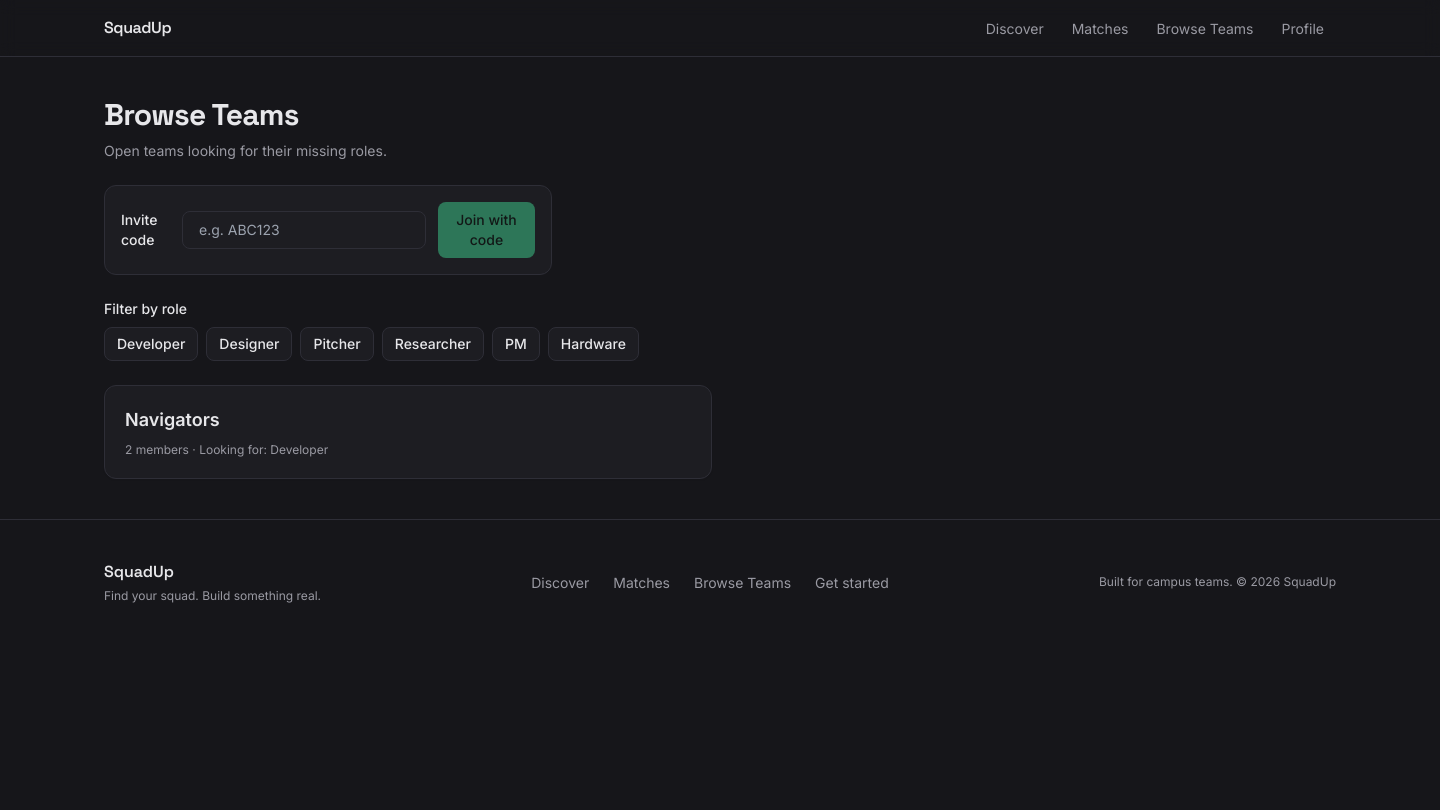
Test: Team directory page › shows an error for an unknown invite code
expect the text "Navigators" is shown: met, box [125,409,220,430]
Type "NOPE" into the field labelled "Invite code" at x=304, y=230, box [182,211,426,249]
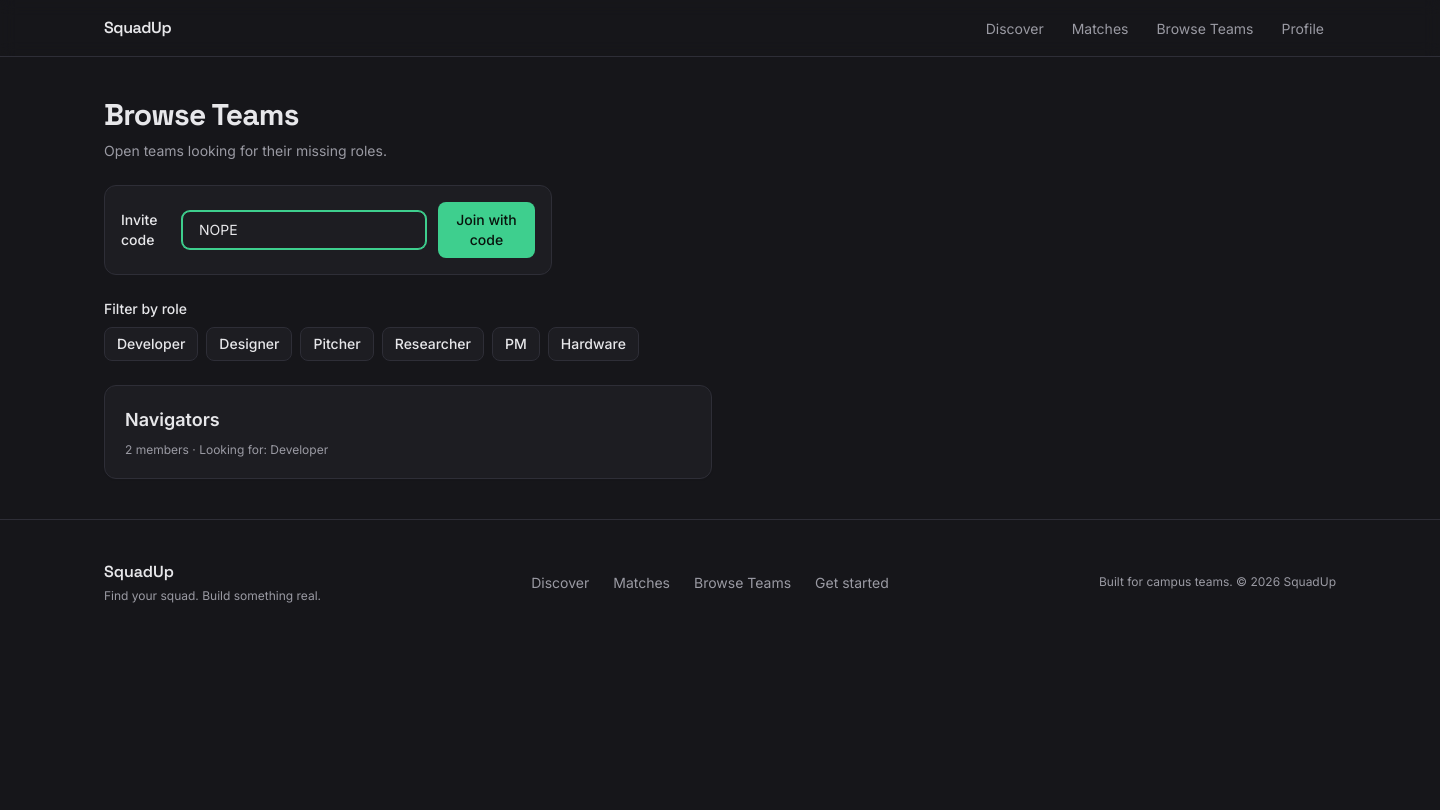
Click the button "Join with code" at x=486, y=230, box [438,202,535,258]
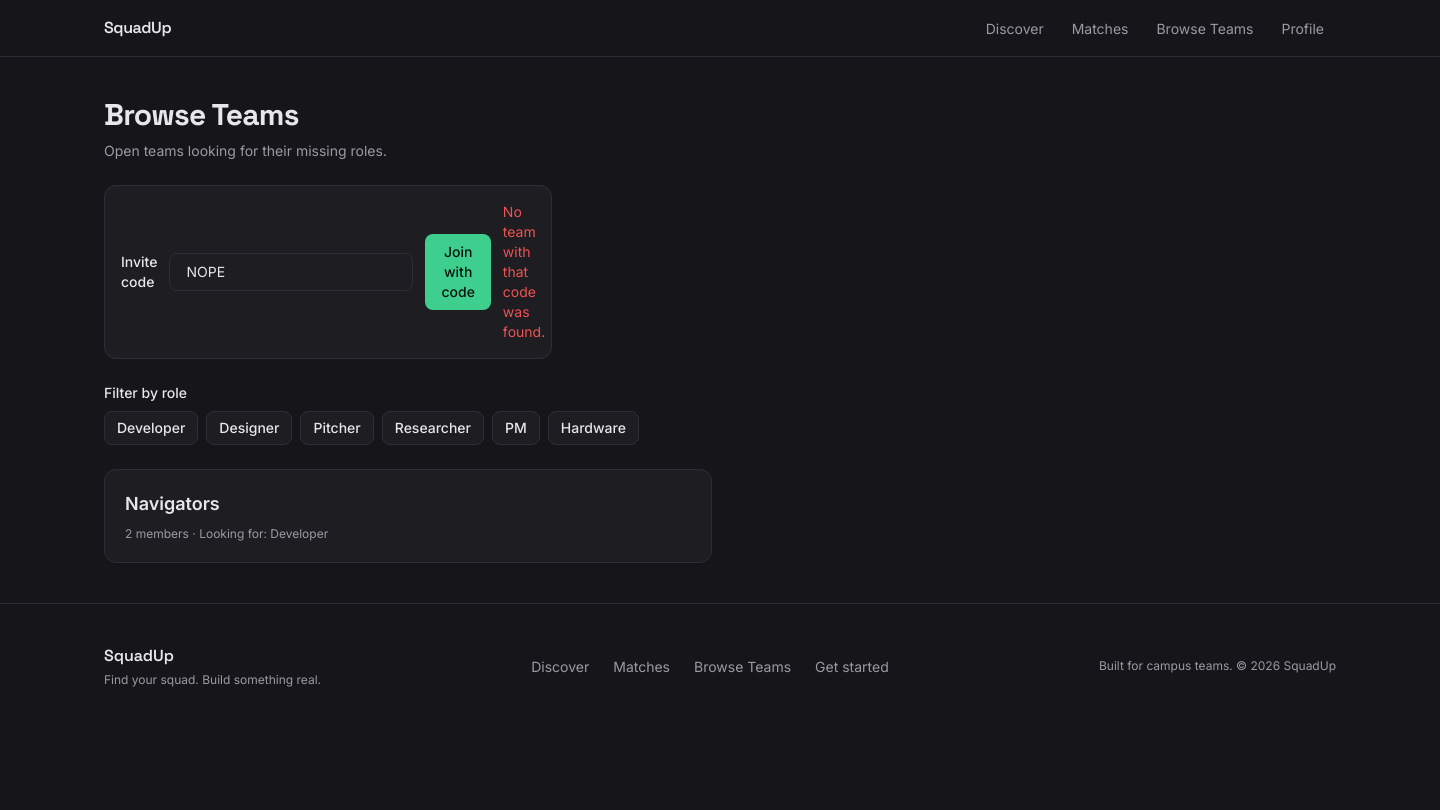
expect the text "No team with that code was found." is shown: met, box [503,202,545,342]
